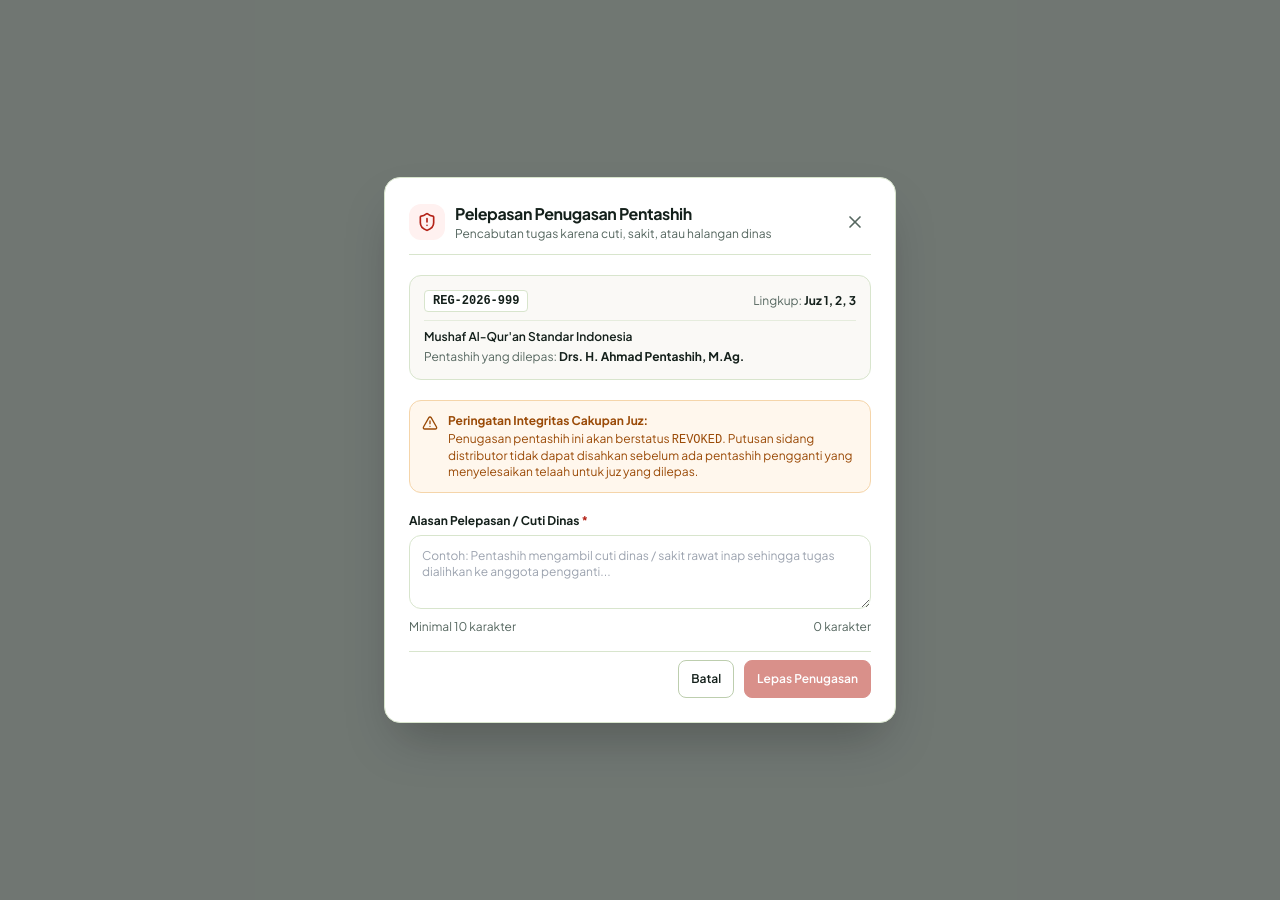
Scenario: RevokePentashihAssignmentDialog Component (B-19b) › menampilkan pesan galat saat API mengembalikan error
The width and height of the screenshot is (1280, 900).
Replace the text in the text box labelled "Alasan Pelepasan / Cuti Dinas *" with "Alasan cuti yang cukup panjang": (640, 572) [409,535,871,609]
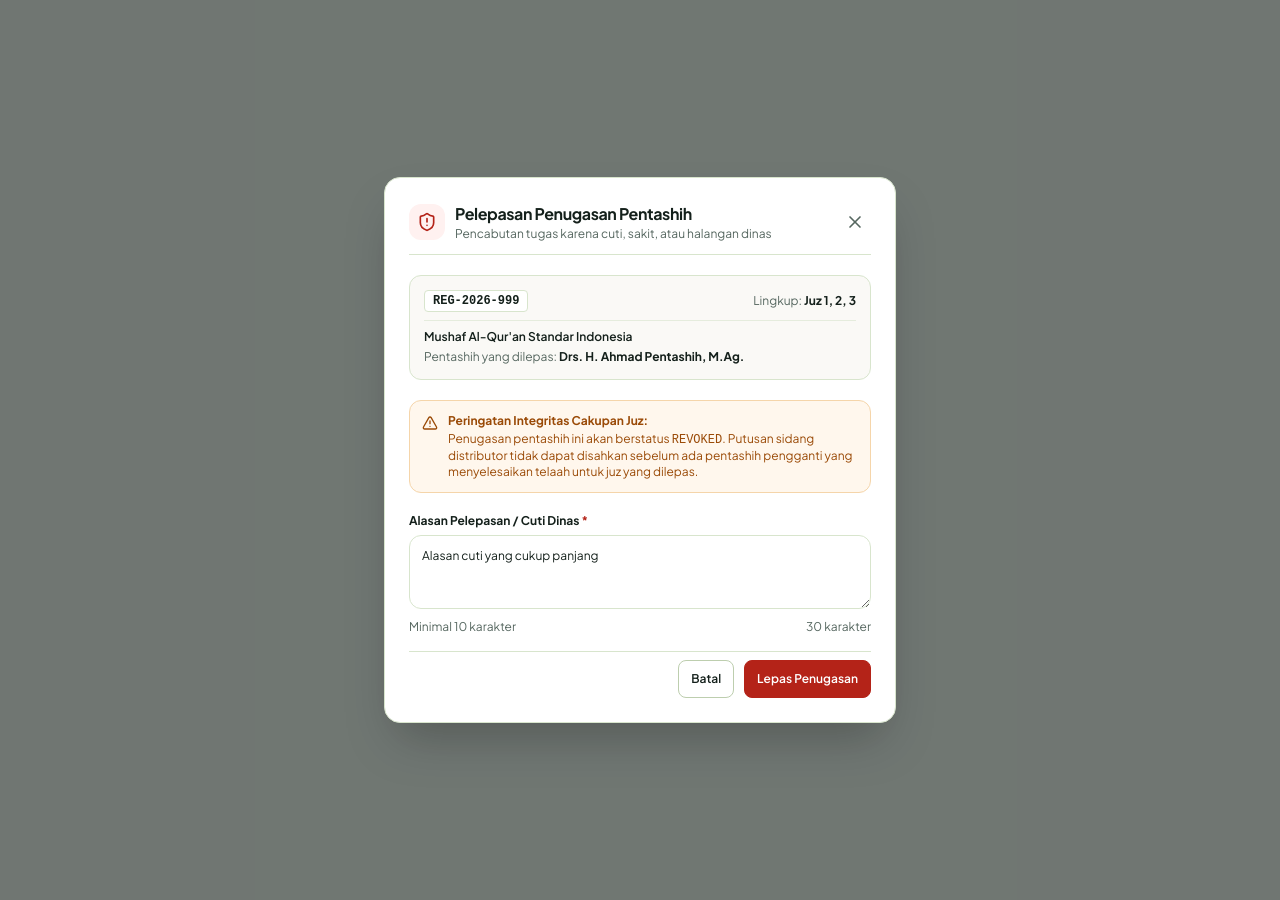
Click the button "Lepas Penugasan": click(808, 679) [744,660,871,698]
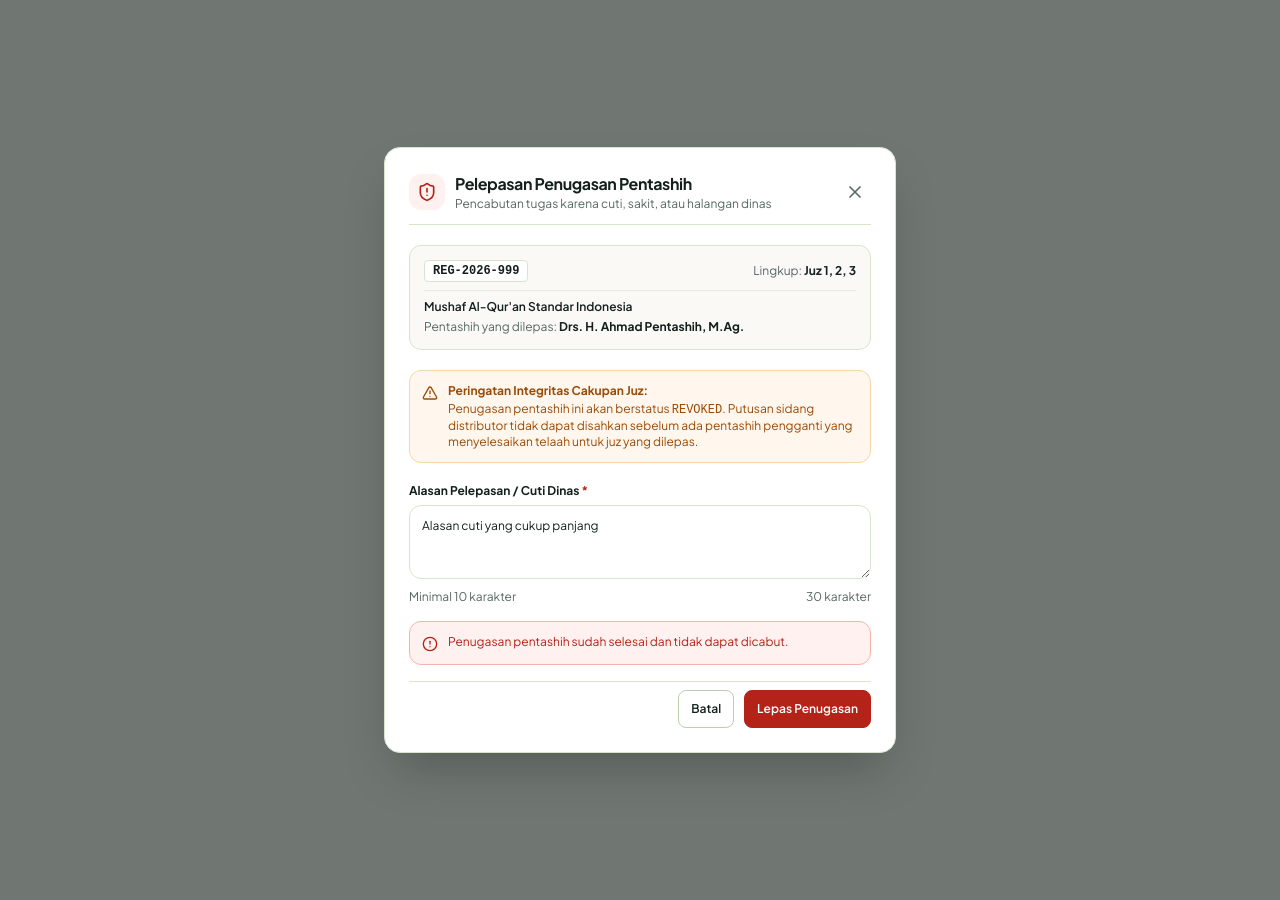
Check: the message shows "sudah selesai dan tidak dapat dicabut", box [448,634,788,649]
